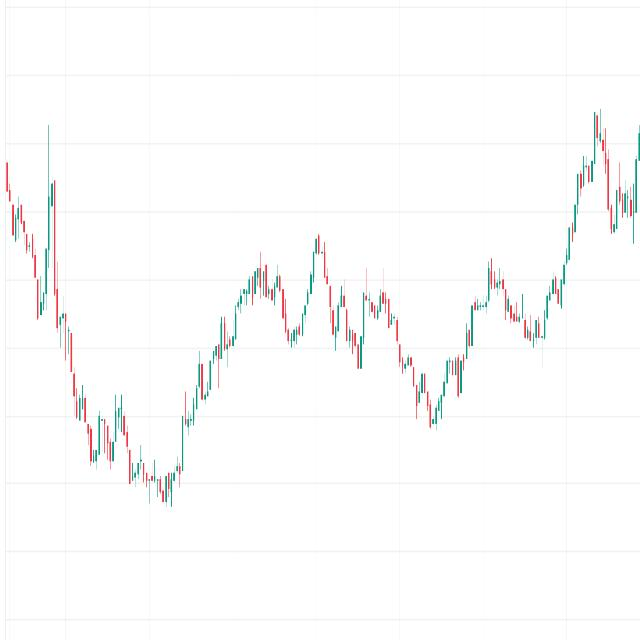Rounding-Bottom: (56, 306, 224, 510)
Rounding-Top: (192, 220, 435, 437)
